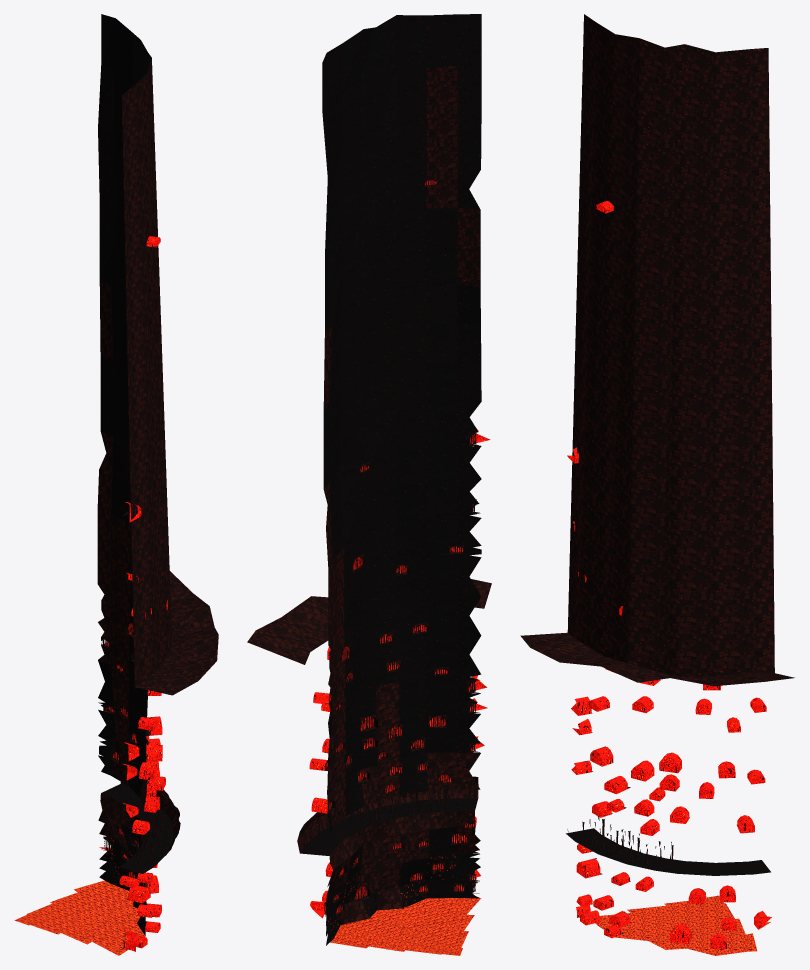
File: map_base_s1.glb
3 renders of one model, left to right at view 1: azimuth 30°, elevation 25°; view 2: azimuth 150°, elevation 25°; view 3: azimuth 270°, elevation 25°, orthographic. The views are drawn at different scales.
Parts seen in each view (by area): view 1: MapBaseS1Rock; view 2: MapBaseS1Rock; view 3: MapBaseS1Rock.
Part boxes in pixels (x1,y1,x2,y2): MapBaseS1Rock: [14, 14, 218, 955]; MapBaseS1Rock: [247, 14, 491, 955]; MapBaseS1Rock: [520, 14, 794, 955].
Size of what is drawn, in the model's own units: 73.38 by 343 by 94.02.
5 materials, 5 textured.
